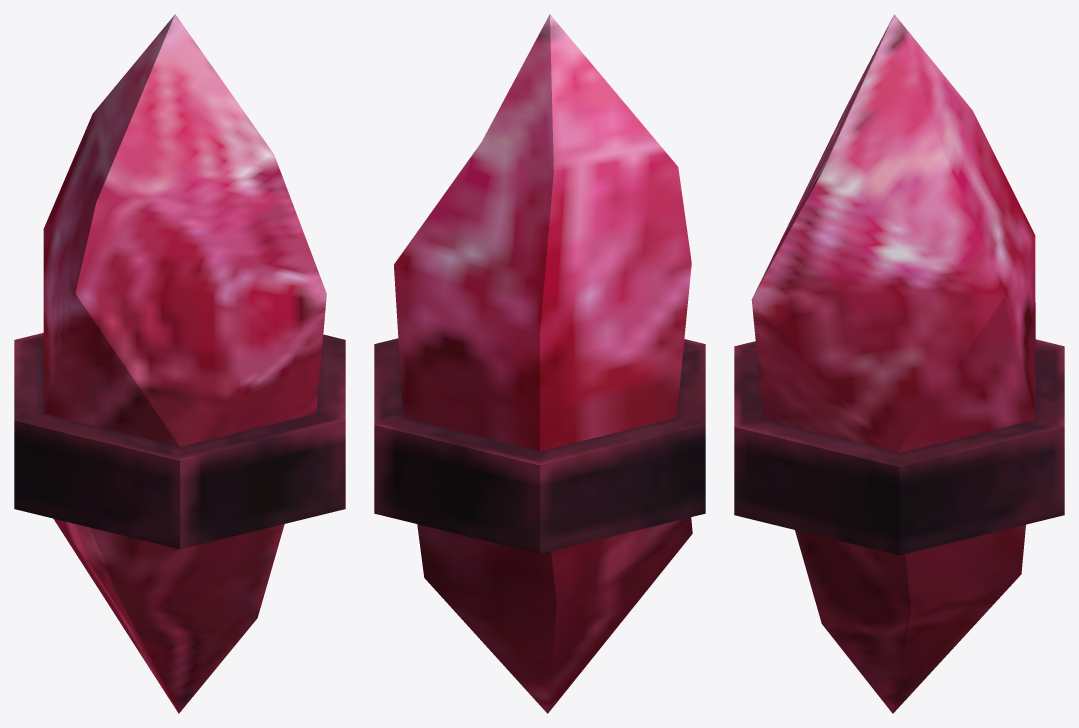
The model's file is crystal.fbx.
The picture shows the model from 3 angles, left to right: view 1: azimuth 30°, elevation 25°; view 2: azimuth 150°, elevation 25°; view 3: azimuth 270°, elevation 25°; orthographic projection.
Visible parts, largest first — view 1: palace_lightcolumn_02; view 2: palace_lightcolumn_02; view 3: palace_lightcolumn_02.
Boxes of the visible parts, x1,y1,x2,y2 form: palace_lightcolumn_02: (14,14,345,713); palace_lightcolumn_02: (374,14,705,713); palace_lightcolumn_02: (734,14,1064,713).
Size of the model in its own units: 0.4887 by 0.9876 by 0.4233.
